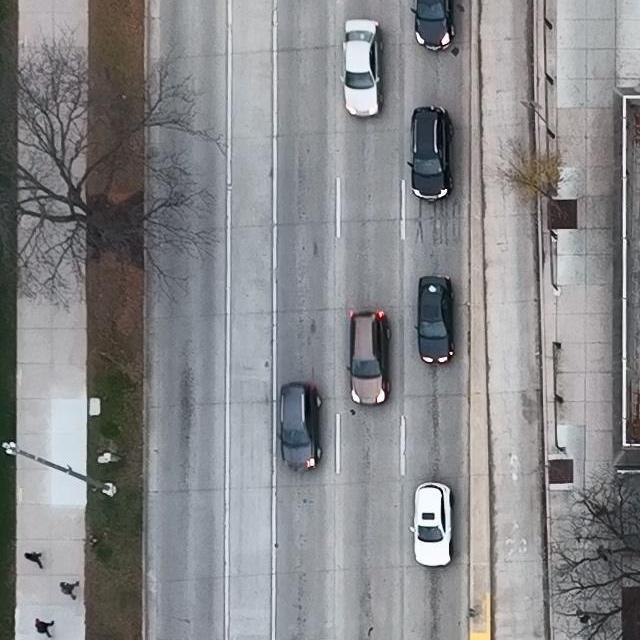car: (407, 106, 454, 202), (345, 309, 391, 406), (340, 20, 385, 118), (408, 481, 455, 568), (278, 382, 322, 472), (414, 275, 456, 366), (410, 0, 458, 52)
